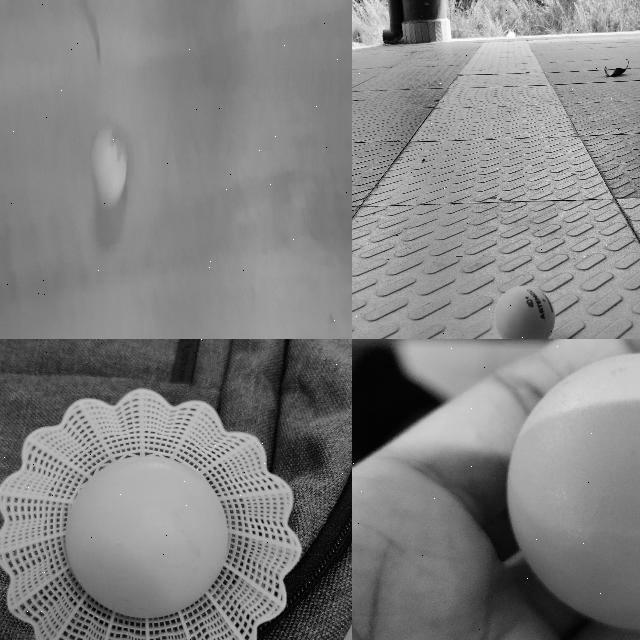ping-pong-ball: (509, 352, 639, 628), (67, 457, 225, 617), (495, 286, 556, 338), (91, 126, 126, 204)
